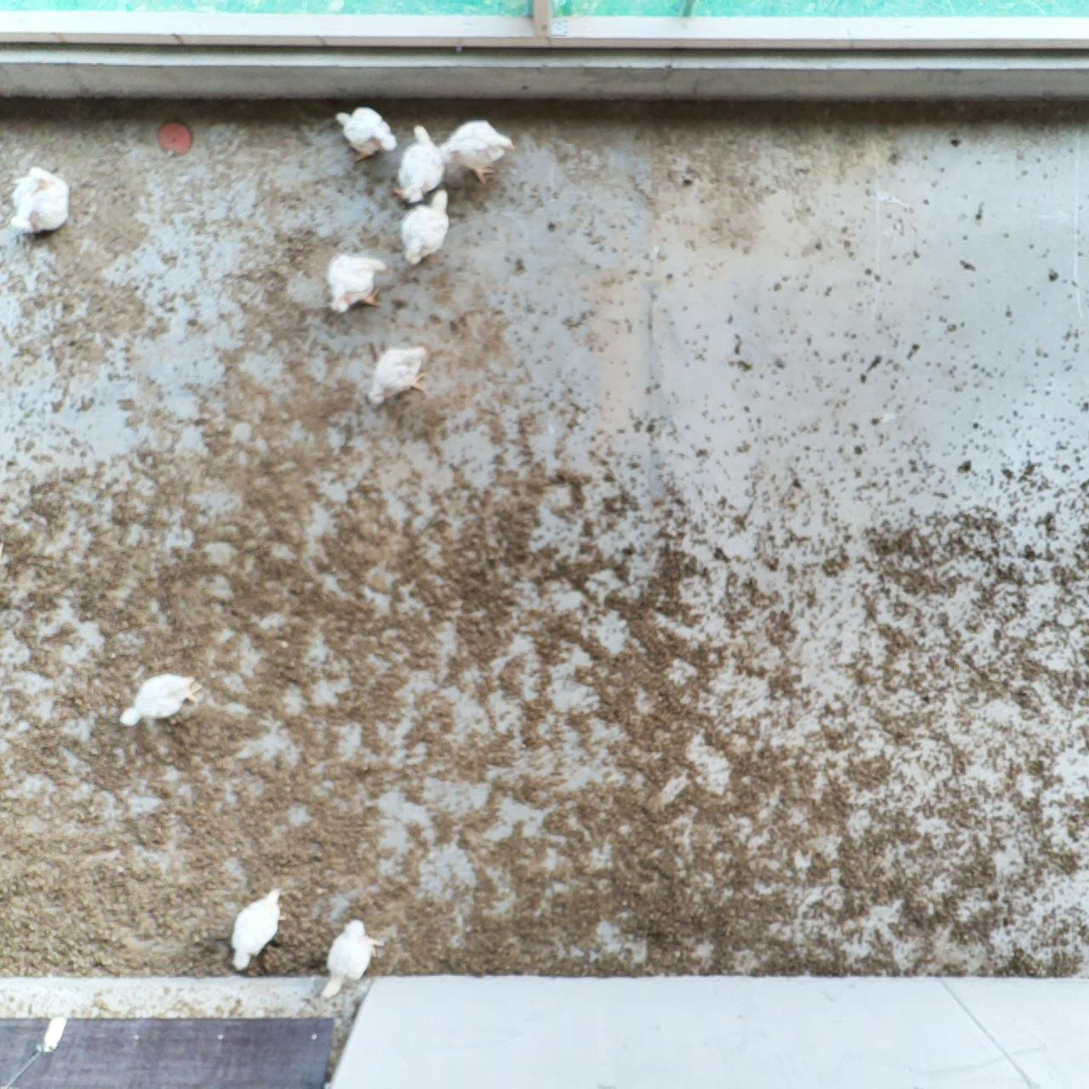chicken: (316, 914, 387, 1004), (435, 114, 520, 188), (115, 667, 204, 734), (226, 885, 286, 976), (387, 120, 450, 206), (7, 163, 75, 241), (363, 343, 436, 415), (397, 187, 456, 272), (324, 249, 392, 317), (332, 103, 399, 166)
